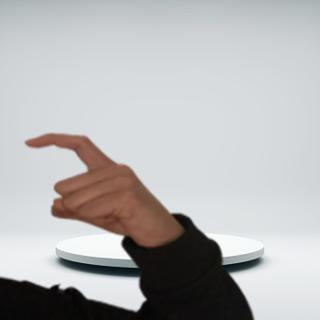WHY: (17, 120, 176, 245)
